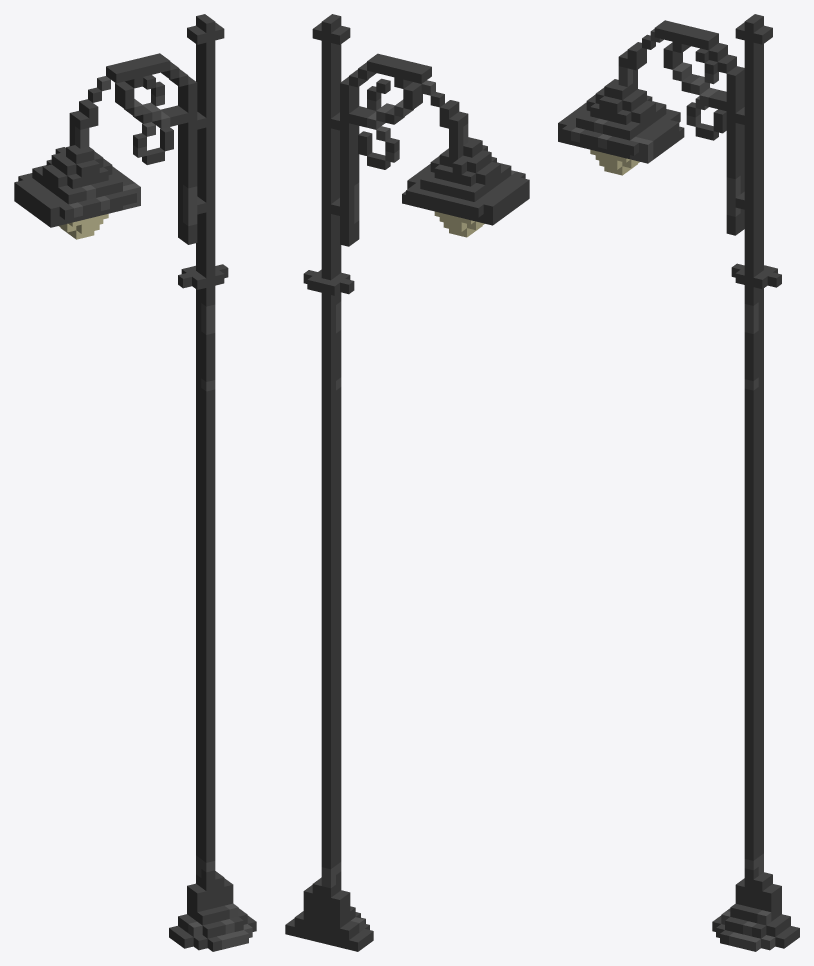
The model's file is TESTOWANIE_VOXELA-5.obj.
3 renders of one model, left to right at view 1: azimuth 30°, elevation 25°; view 2: azimuth 150°, elevation 25°; view 3: azimuth 330°, elevation 25°, orthographic.
Bounding box in the file's own units: 2.4 × 9.7 × 0.9.
Materials: 1 (1 with a texture image).
